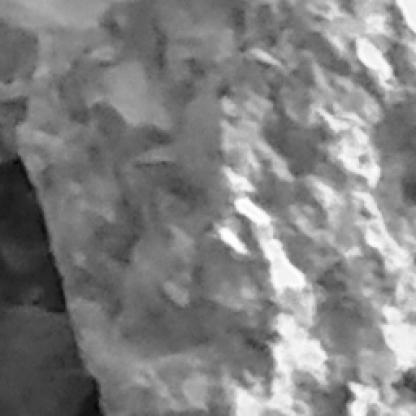cementitious_debris: (2, 3, 414, 413)
